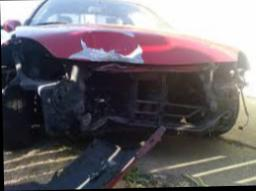Bonnet: (64, 26, 145, 63)
Bumper: (6, 61, 248, 134)
Light: (11, 33, 53, 68), (209, 53, 246, 84)
